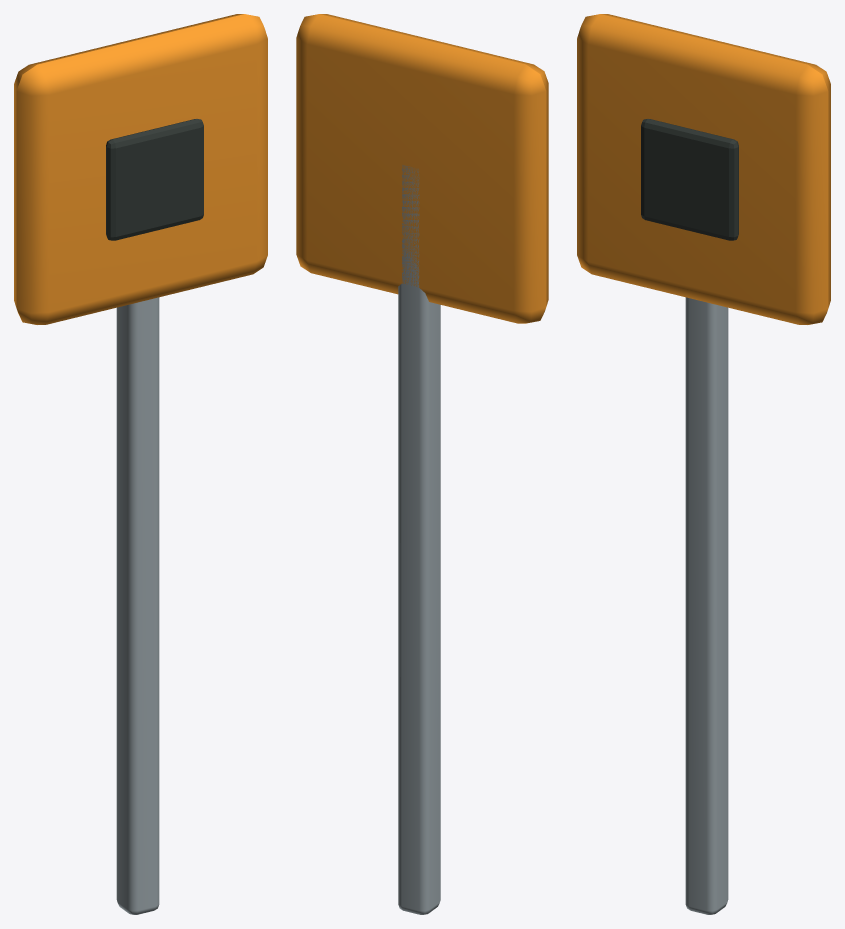
Rendered from Roadside_Warning_Sign.fbx.
The picture shows the model from 3 angles, left to right: view 1: azimuth 30°, elevation 25°; view 2: azimuth 150°, elevation 25°; view 3: azimuth 330°, elevation 25°; orthographic projection.
Visible parts, largest first — view 1: WarningSign_Plate, WarningSign_Post, WarningSign_Symbol; view 2: WarningSign_Plate, WarningSign_Post; view 3: WarningSign_Plate, WarningSign_Post, WarningSign_Symbol.
Part boxes in pixels (<box>): WarningSign_Plate: <box>14,14,267,324</box>; WarningSign_Post: <box>116,297,159,914</box>; WarningSign_Symbol: <box>106,119,203,240</box>; WarningSign_Plate: <box>296,14,548,323</box>; WarningSign_Post: <box>398,165,440,914</box>; WarningSign_Plate: <box>577,14,830,324</box>; WarningSign_Post: <box>685,297,728,914</box>; WarningSign_Symbol: <box>641,119,738,240</box>.
Bounding box in the file's own units: 0.72 × 2.41 × 0.1475.
